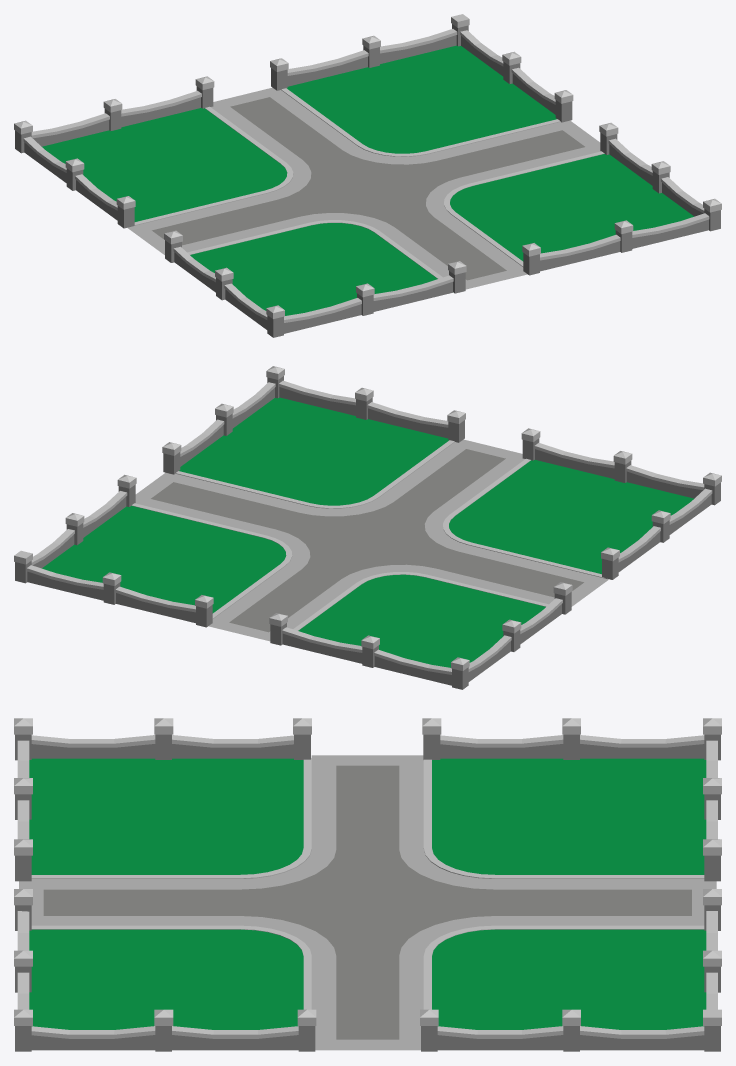
The picture shows the model from 3 angles, top to bottom: view 1: azimuth 30°, elevation 25°; view 2: azimuth 150°, elevation 25°; view 3: azimuth 270°, elevation 25°; orthographic projection. The views are drawn at different scales.
Visible parts, largest first — view 1: QD-p1; view 2: QD-p1; view 3: QD-p1.
Part boxes in pixels (x1=…): QD-p1: x1=14, y1=14, x2=721, y2=337; QD-p1: x1=14, y1=366, x2=721, y2=689; QD-p1: x1=14, y1=718, x2=721, y2=1051.
Size of what is drawn, in the model's own units: 40.6 by 2.45 by 40.6.
